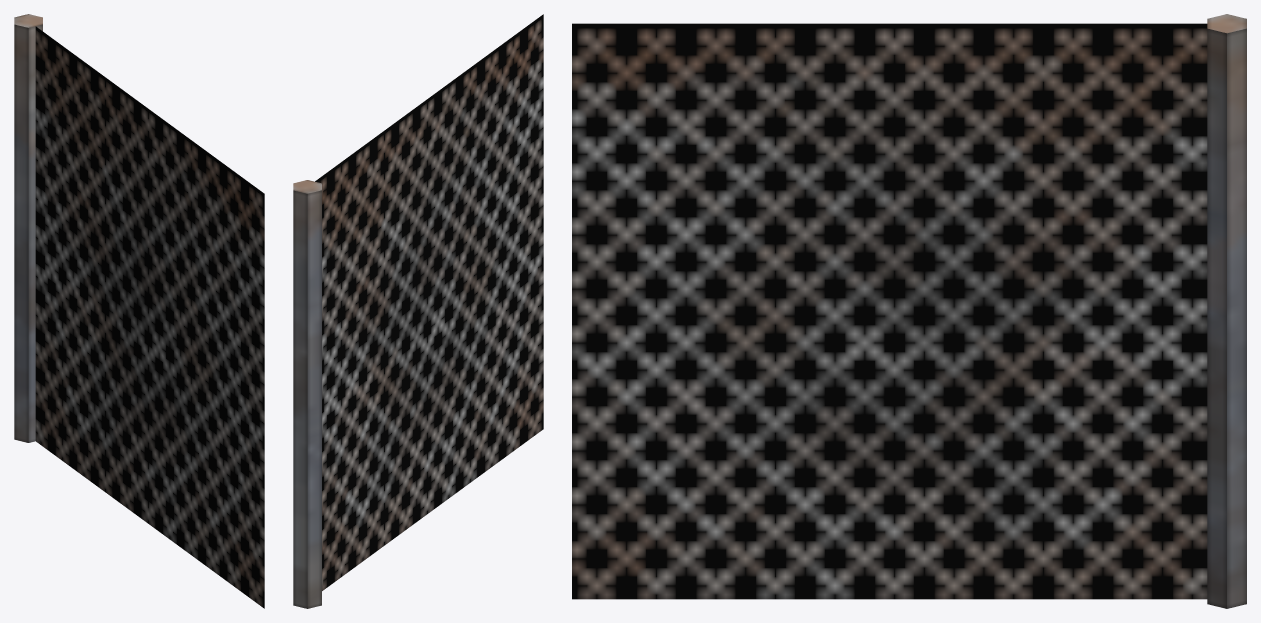
File: LinkFence.fbx
3 views of the same model, side by side, from view 1: azimuth 30°, elevation 25°; view 2: azimuth 150°, elevation 25°; view 3: azimuth 270°, elevation 25° (orthographic). The views are drawn at different scales.
Parts seen in each view (by area): view 1: Chain Links, FencePost; view 2: Chain Links, FencePost; view 3: Chain Links, FencePost.
Boxes of the visible parts, x1,y1,x2,y2 form: Chain Links: (35, 26, 264, 608); FencePost: (14, 14, 42, 442); Chain Links: (315, 14, 543, 590); FencePost: (293, 180, 321, 608); Chain Links: (572, 23, 1207, 599); FencePost: (1207, 14, 1246, 608).
Bounding box in the file's own units: 14.43 × 200 × 212.
1 material, 1 textured.
